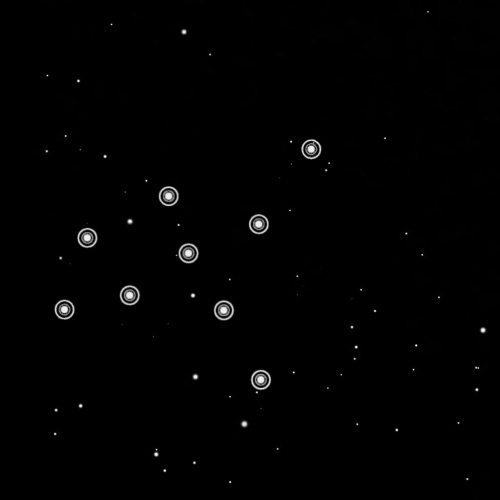cygnus: (48, 132, 324, 393)
